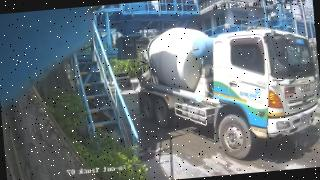cement_mixer_truck: (139, 25, 320, 158)
